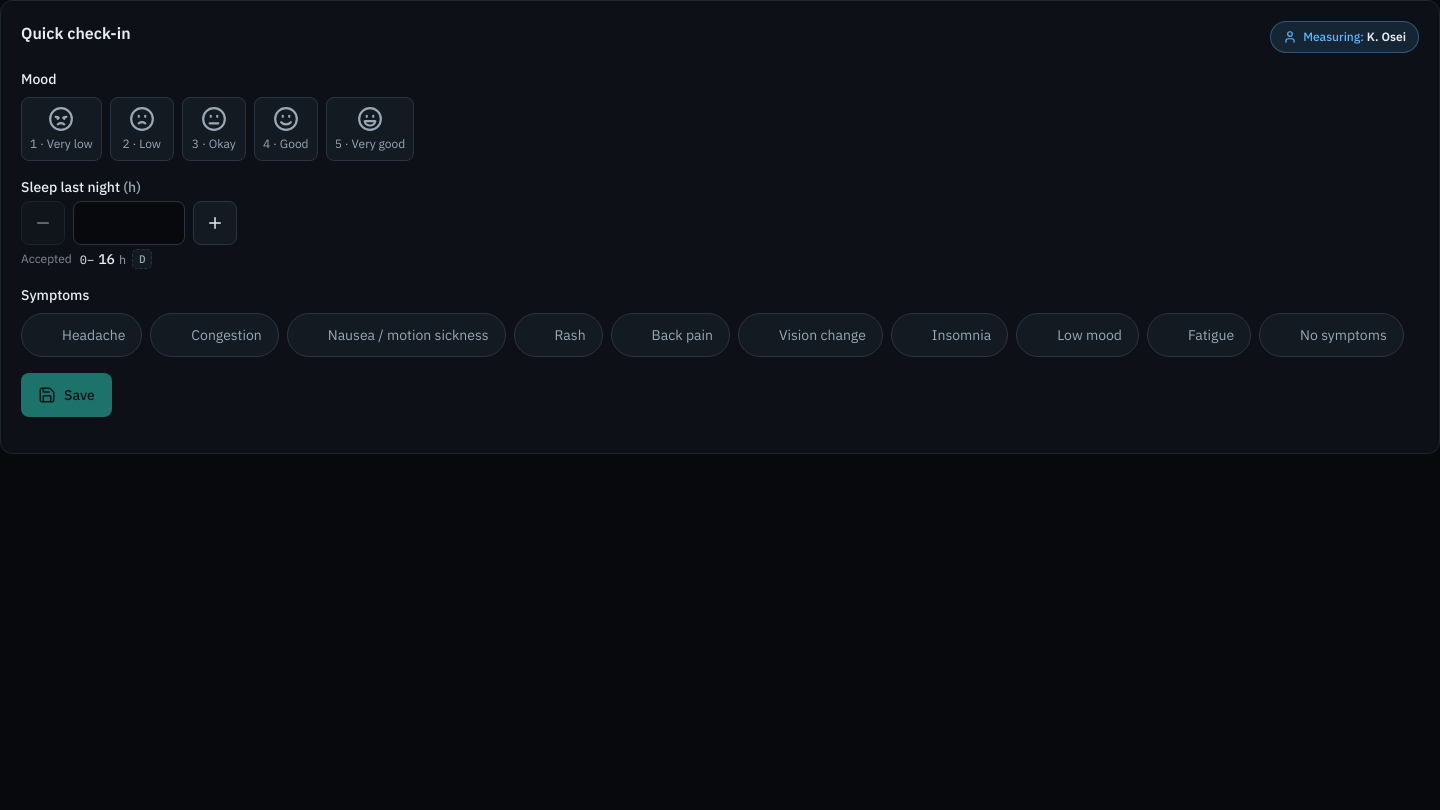
Test: QuickCheckIn › two taps: a mood face + Save saves one mood observation
The width and height of the screenshot is (1440, 810).
Click the radio button with aria-label "4 – Good". click: (286, 129)
box: [254,97,318,161]
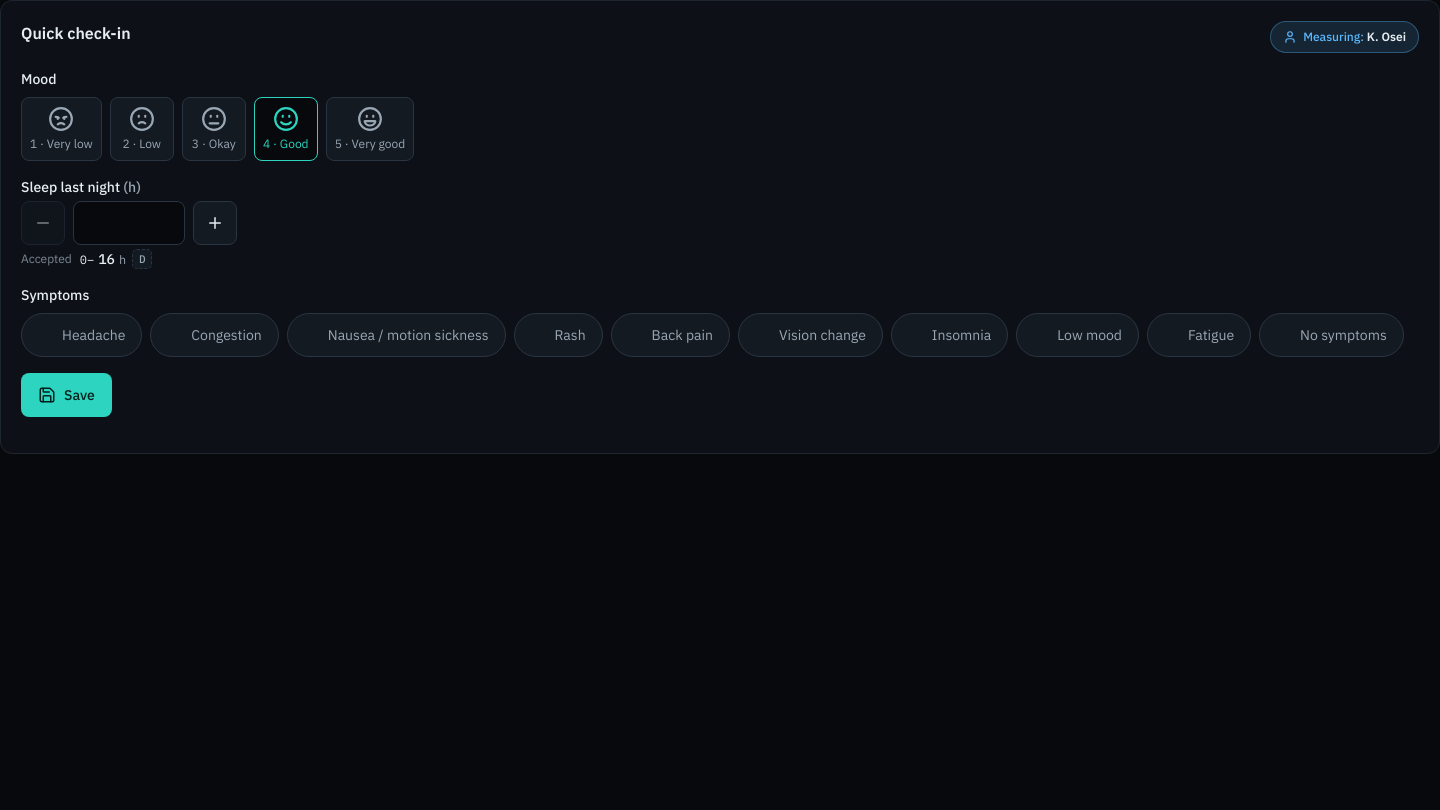
Click the button "Save". click: (66, 395)
box: [21,373,112,417]
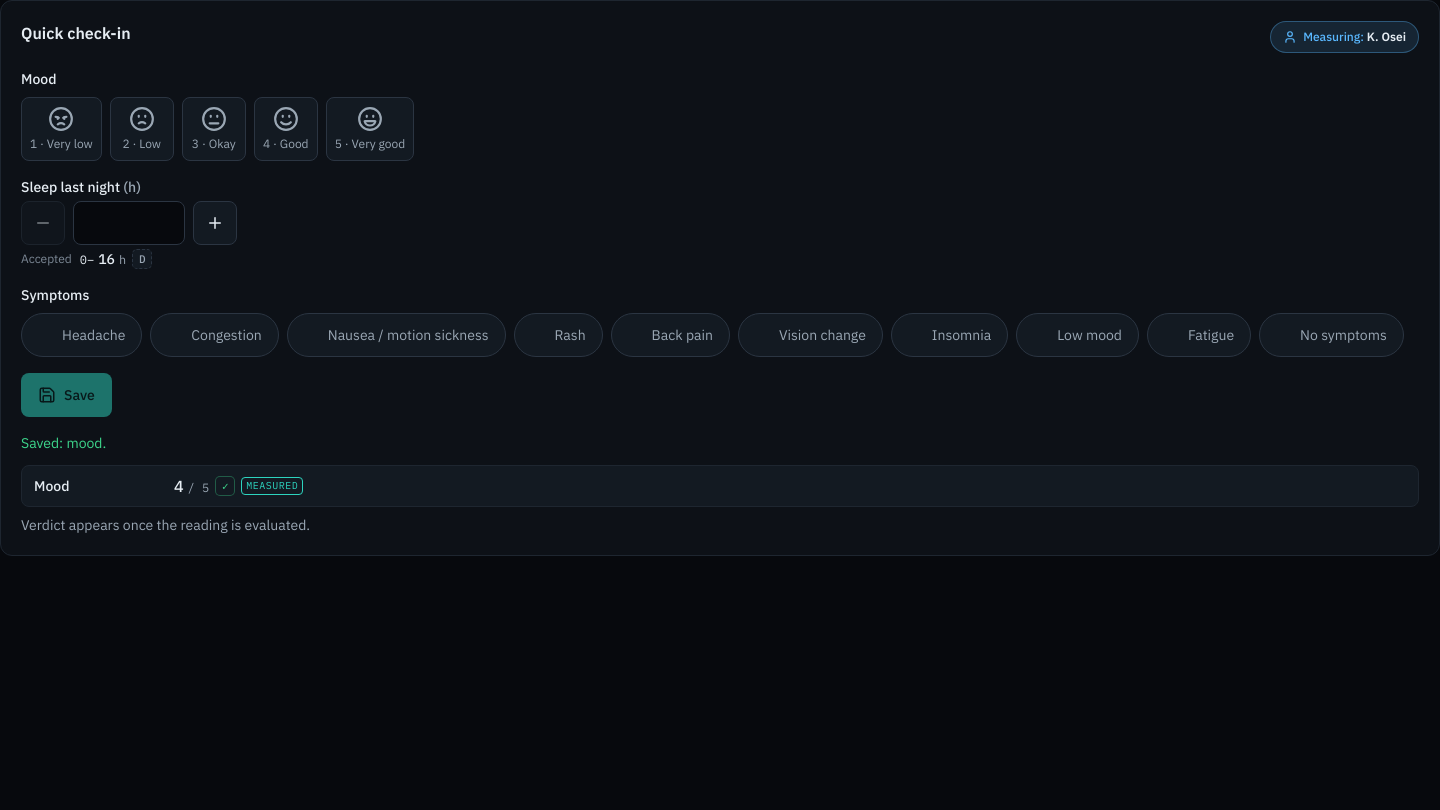
Expected: the text "Saved: mood." is shown, [21,434,106,452]
